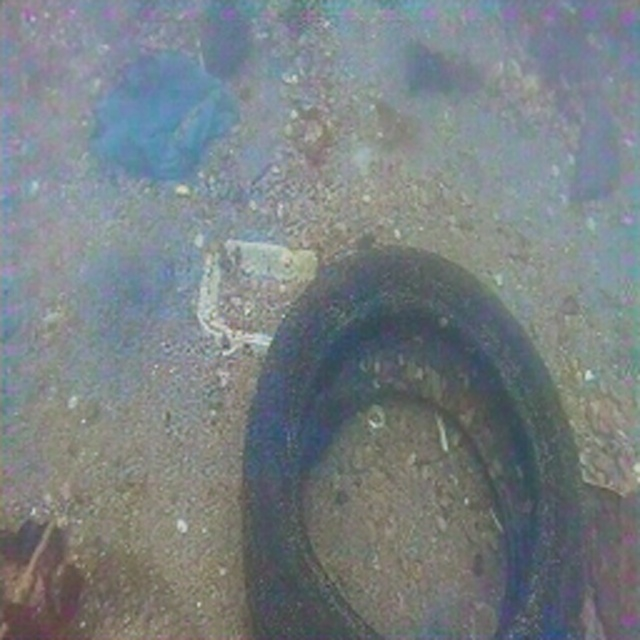mine: (241, 243, 588, 640)
